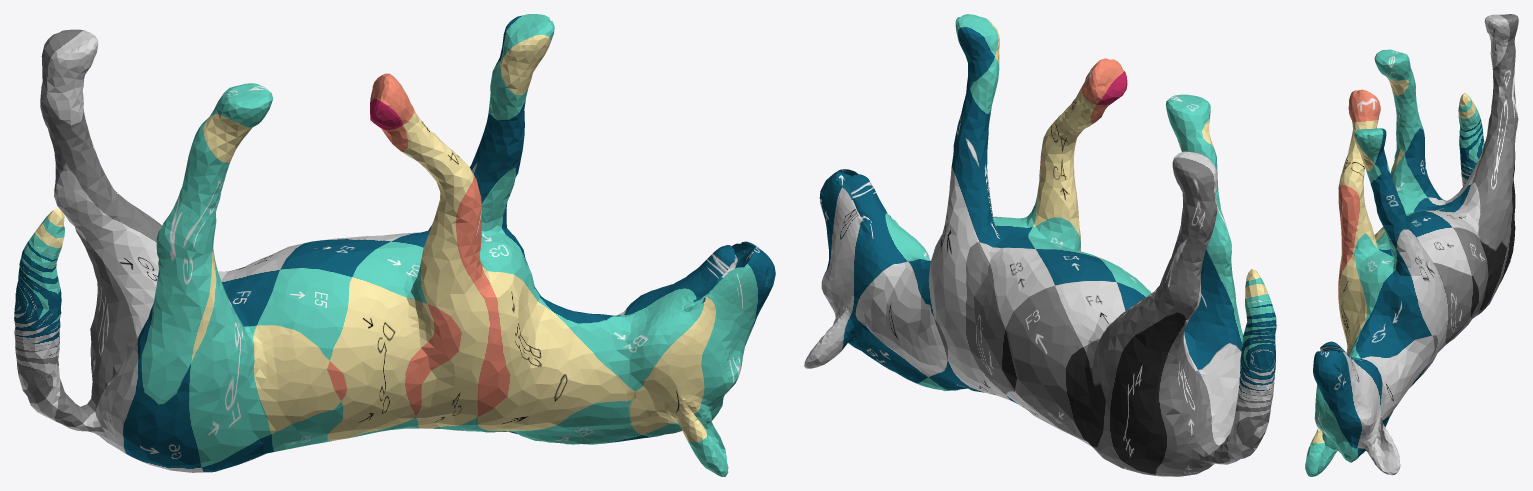
The model's file is hippo_06-horse_03.obj.
3 views of the same model, side by side, from view 1: azimuth 30°, elevation 25°; view 2: azimuth 150°, elevation 25°; view 3: azimuth 270°, elevation 25° (orthographic). The views are drawn at different scales.
Parts seen in each view (by area): view 1: hippo_06-horse_03_export; view 2: hippo_06-horse_03_export; view 3: hippo_06-horse_03_export.
Part boxes in pixels (x1,y1,x2,y2): hippo_06-horse_03_export: (14, 14, 775, 476); hippo_06-horse_03_export: (804, 14, 1276, 476); hippo_06-horse_03_export: (1305, 14, 1518, 476).
Bounding box in the file's own units: 0.9635 × 0.6562 × 0.422.
